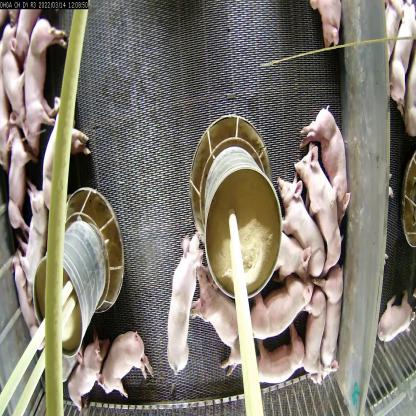Pig: (181, 261, 244, 369), (293, 137, 342, 274), (275, 160, 329, 281), (18, 17, 68, 144), (302, 98, 352, 221), (241, 272, 311, 346), (42, 110, 88, 220), (169, 222, 201, 374), (246, 324, 311, 392), (100, 330, 152, 405), (20, 179, 50, 297), (5, 130, 33, 246), (61, 342, 106, 407), (323, 268, 346, 388), (299, 283, 326, 381)
